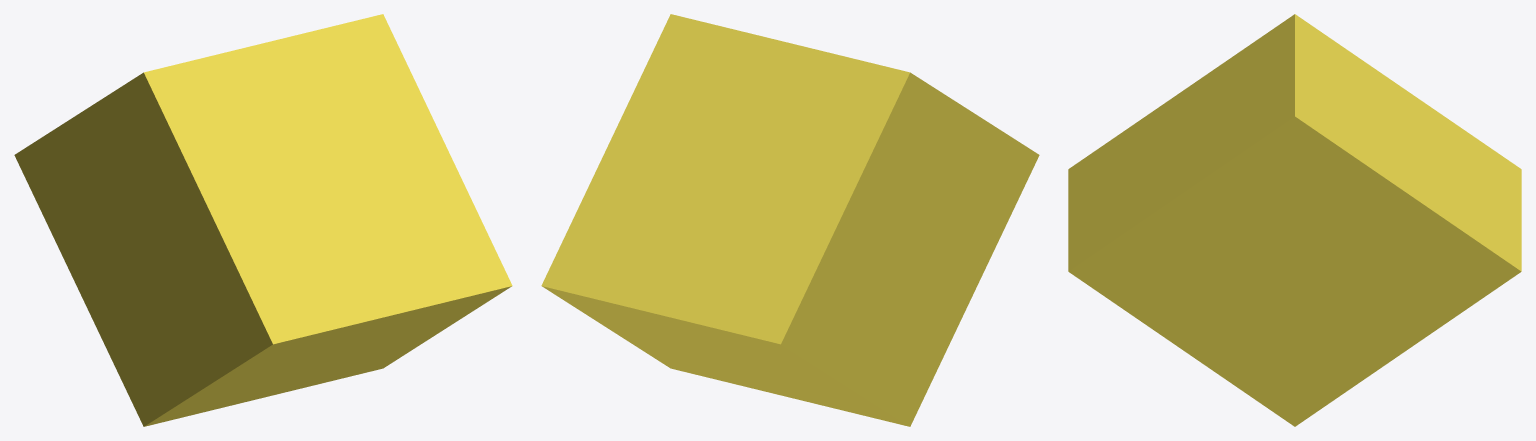
File: condicion.glb
The picture shows the model from 3 angles, left to right: view 1: azimuth 30°, elevation 25°; view 2: azimuth 150°, elevation 25°; view 3: azimuth 270°, elevation 25°; orthographic projection. The views are drawn at different scales.
Visible parts, largest first — view 1: Cube; view 2: Cube; view 3: Cube.
Boxes of the visible parts, <box> form: Cube: <box>14,14,512,426</box>; Cube: <box>541,14,1039,426</box>; Cube: <box>1068,14,1521,426</box>.
Size of the model in its own units: 0.6569 by 0.929 by 1.23.
